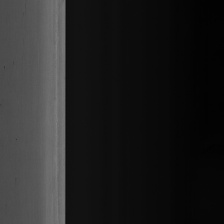inclusion: (2, 63, 6, 73)
